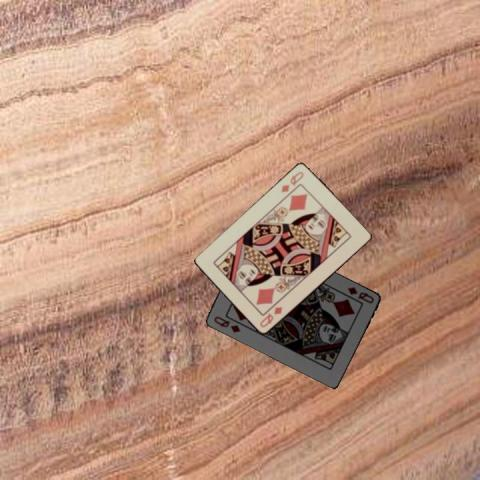Qd: (340, 283, 376, 305), (278, 169, 305, 194), (211, 313, 242, 334), (257, 304, 283, 329)
